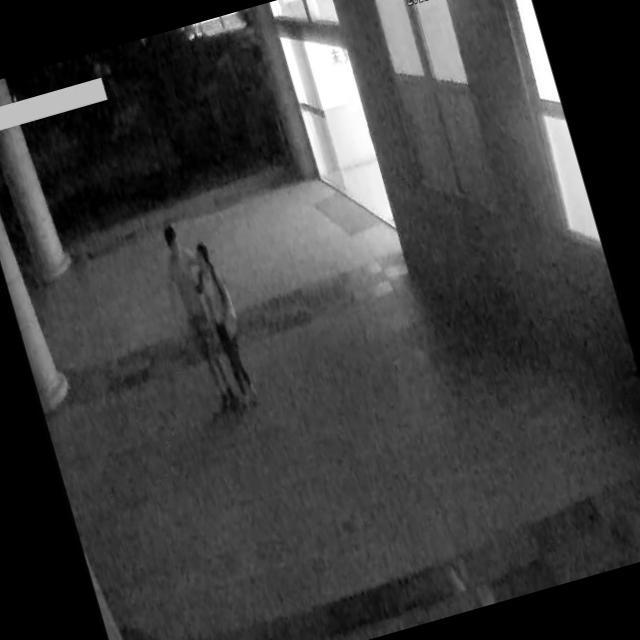person: (148, 210, 246, 424), (192, 233, 266, 412)
